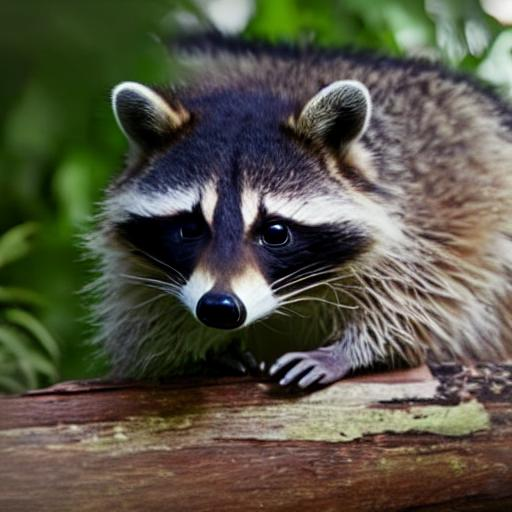raccoon: (77, 49, 512, 363)
